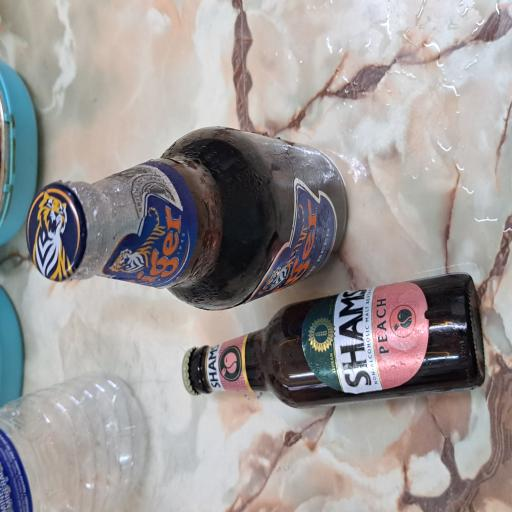glass bottle: (152, 36, 290, 465), (81, 241, 177, 512)
plastic bottle: (0, 0, 103, 198)
